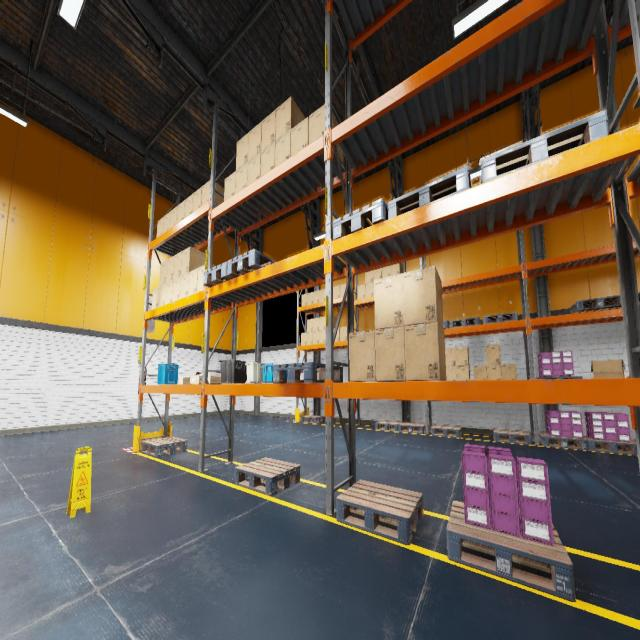box: (402, 265, 443, 329), (404, 321, 446, 381), (309, 104, 343, 164), (374, 273, 404, 330), (375, 327, 406, 381), (349, 330, 376, 382), (276, 96, 306, 140), (181, 247, 205, 276), (291, 117, 308, 156), (591, 359, 625, 378), (196, 264, 218, 292), (261, 110, 276, 151), (201, 180, 224, 206), (275, 130, 291, 166), (260, 142, 275, 176), (248, 122, 261, 161), (236, 132, 248, 171), (247, 152, 261, 185), (235, 162, 247, 194), (224, 171, 235, 201), (486, 344, 500, 364), (455, 347, 469, 366), (188, 268, 197, 296), (173, 251, 182, 279), (192, 187, 202, 212), (184, 193, 193, 218), (501, 364, 516, 379), (166, 255, 174, 283), (487, 364, 501, 380), (473, 365, 487, 380), (445, 347, 456, 366), (180, 272, 188, 298), (172, 276, 180, 302), (159, 260, 167, 286), (456, 366, 470, 380), (170, 206, 178, 228), (156, 217, 164, 238), (165, 280, 172, 304), (152, 286, 159, 310), (391, 262, 403, 276), (177, 200, 184, 223), (158, 284, 165, 307), (163, 211, 170, 233), (446, 366, 457, 380), (366, 282, 374, 298), (357, 284, 365, 299), (373, 268, 382, 281), (179, 376, 193, 384), (208, 375, 220, 384), (340, 326, 347, 341), (382, 265, 390, 278), (365, 270, 373, 283), (333, 327, 340, 341), (340, 284, 347, 298), (333, 285, 340, 299), (314, 290, 320, 304), (320, 330, 326, 343), (313, 331, 319, 344), (319, 317, 325, 330), (313, 318, 319, 331), (306, 319, 312, 332), (301, 293, 307, 306), (194, 375, 202, 384), (307, 292, 313, 304), (301, 332, 306, 346), (320, 288, 325, 302), (333, 315, 338, 328), (307, 332, 312, 345), (196, 372, 210, 374), (190, 376, 194, 383), (373, 282, 374, 296)
pallets: (446, 501, 576, 602), (481, 110, 608, 184), (336, 480, 423, 545), (387, 166, 471, 219), (234, 458, 300, 496), (332, 198, 388, 240), (273, 362, 343, 383), (227, 249, 276, 278), (584, 436, 638, 455), (203, 262, 243, 287), (570, 295, 622, 314), (141, 437, 187, 457), (539, 432, 588, 450), (493, 429, 532, 444), (482, 312, 518, 324), (431, 425, 462, 437), (449, 317, 480, 328), (398, 422, 425, 434), (621, 292, 640, 308), (376, 421, 402, 431), (300, 415, 324, 423), (443, 321, 449, 328)
